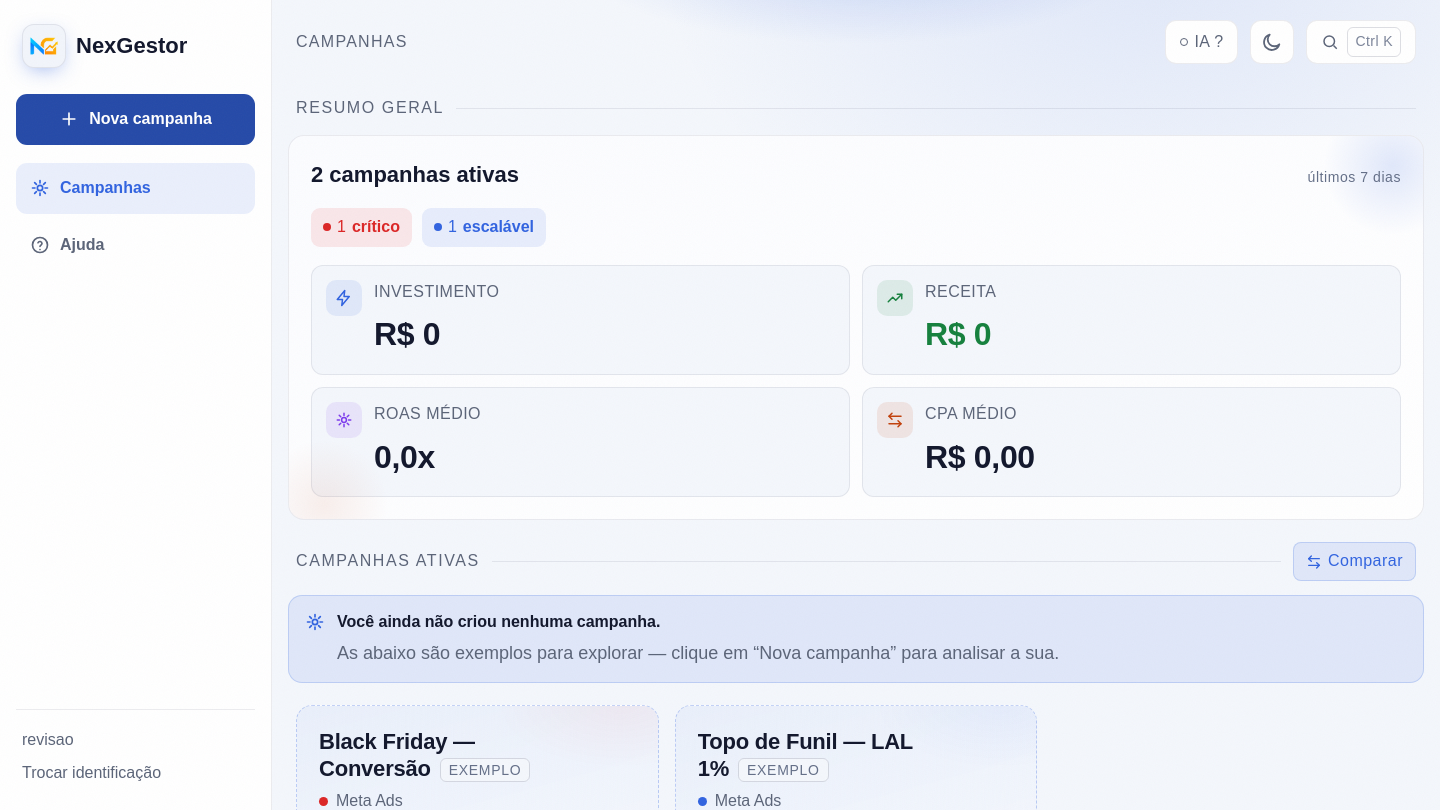
Test: HTTP real — corpo malformado do benchmark nunca derruba a análise › item null → análise preservada, sem referência exibida
The width and height of the screenshot is (1440, 810).
Step 1. Click the button "Nova campanha" → (136, 119), box [16, 94, 255, 145]
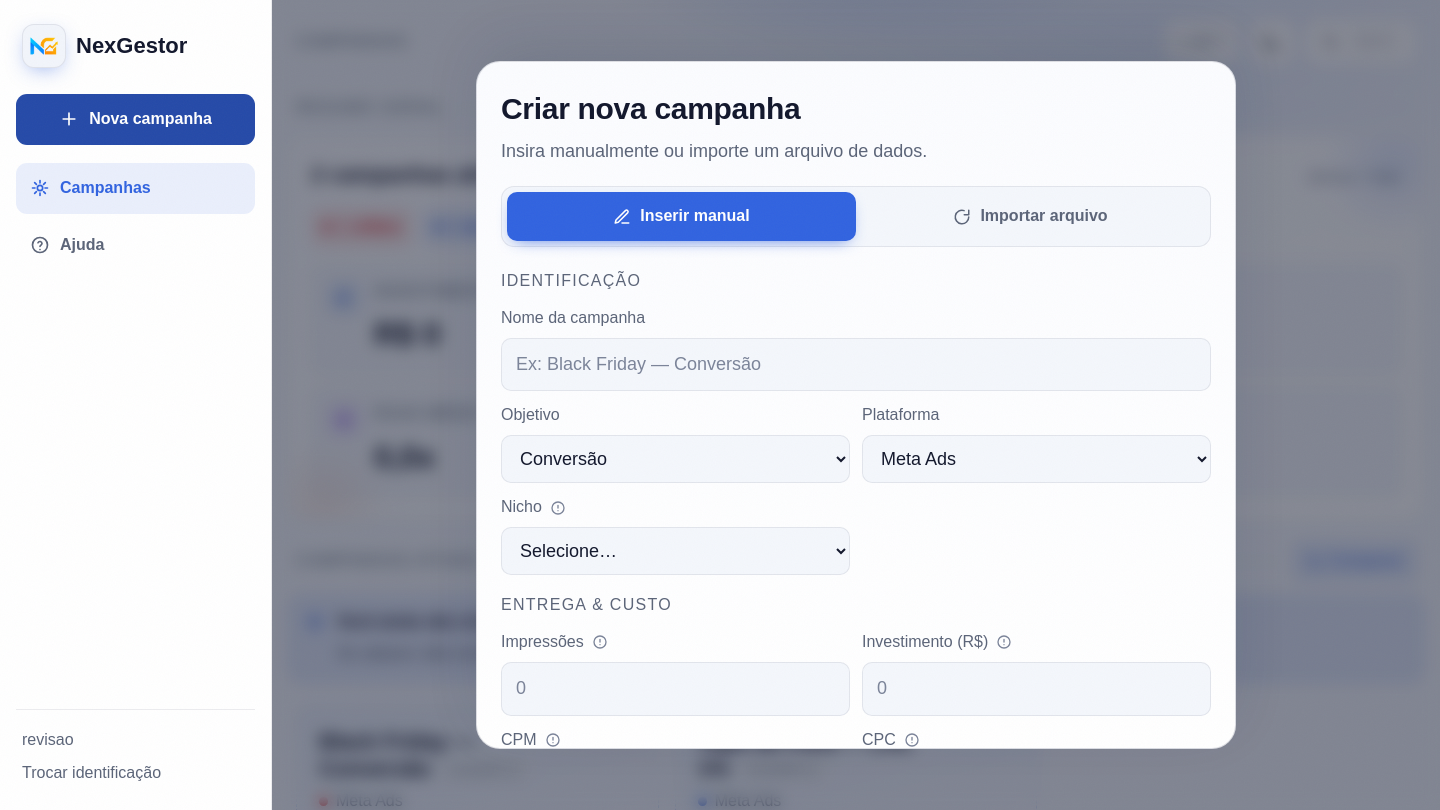
Step 2. Type "Campanha X" into the field with placeholder "Ex: Black Friday — Conversão" → (856, 364), box [501, 338, 1211, 391]
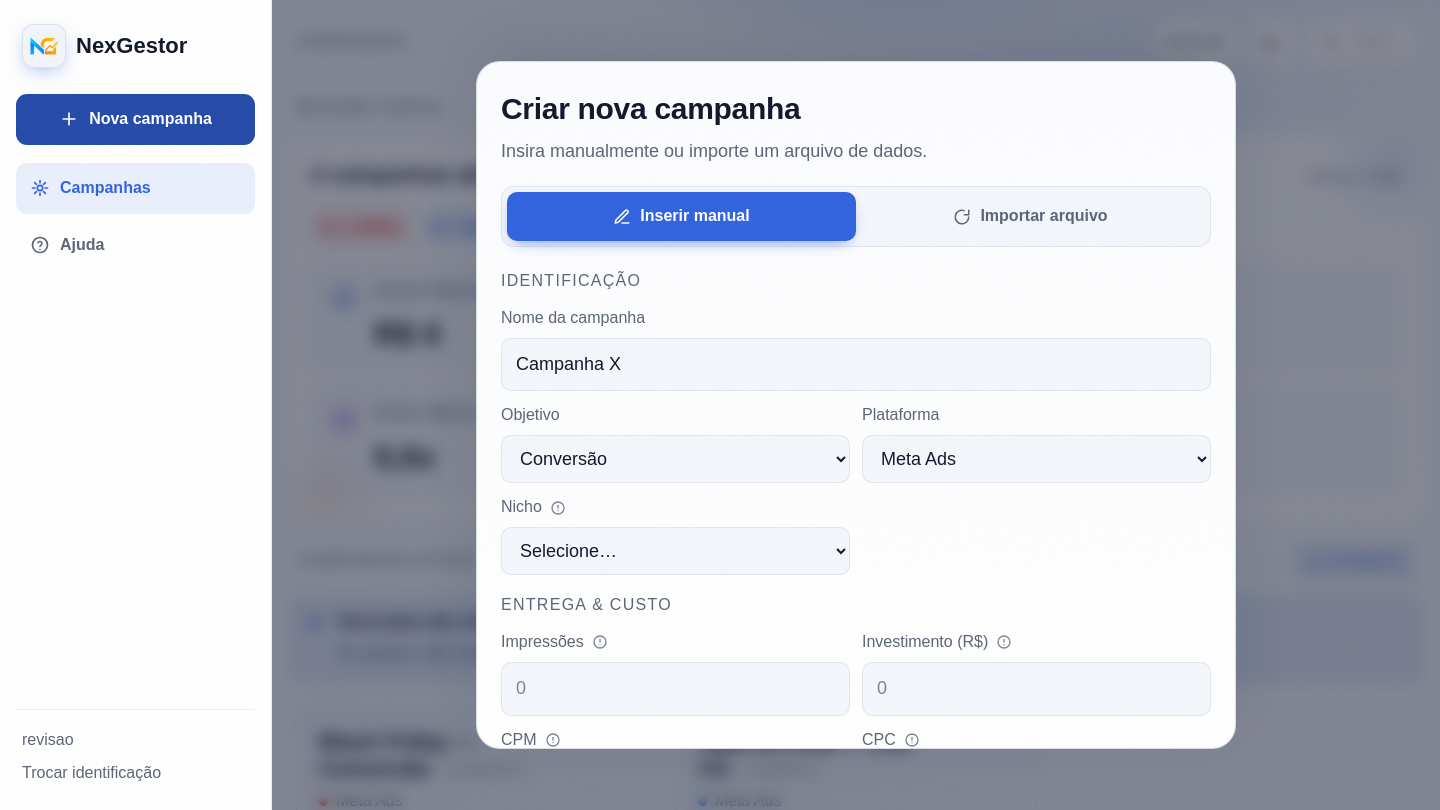
Step 3. Select "Pet" in the dropdown below "Nicho" → (676, 551), box [501, 527, 850, 575]
(page scrolled)
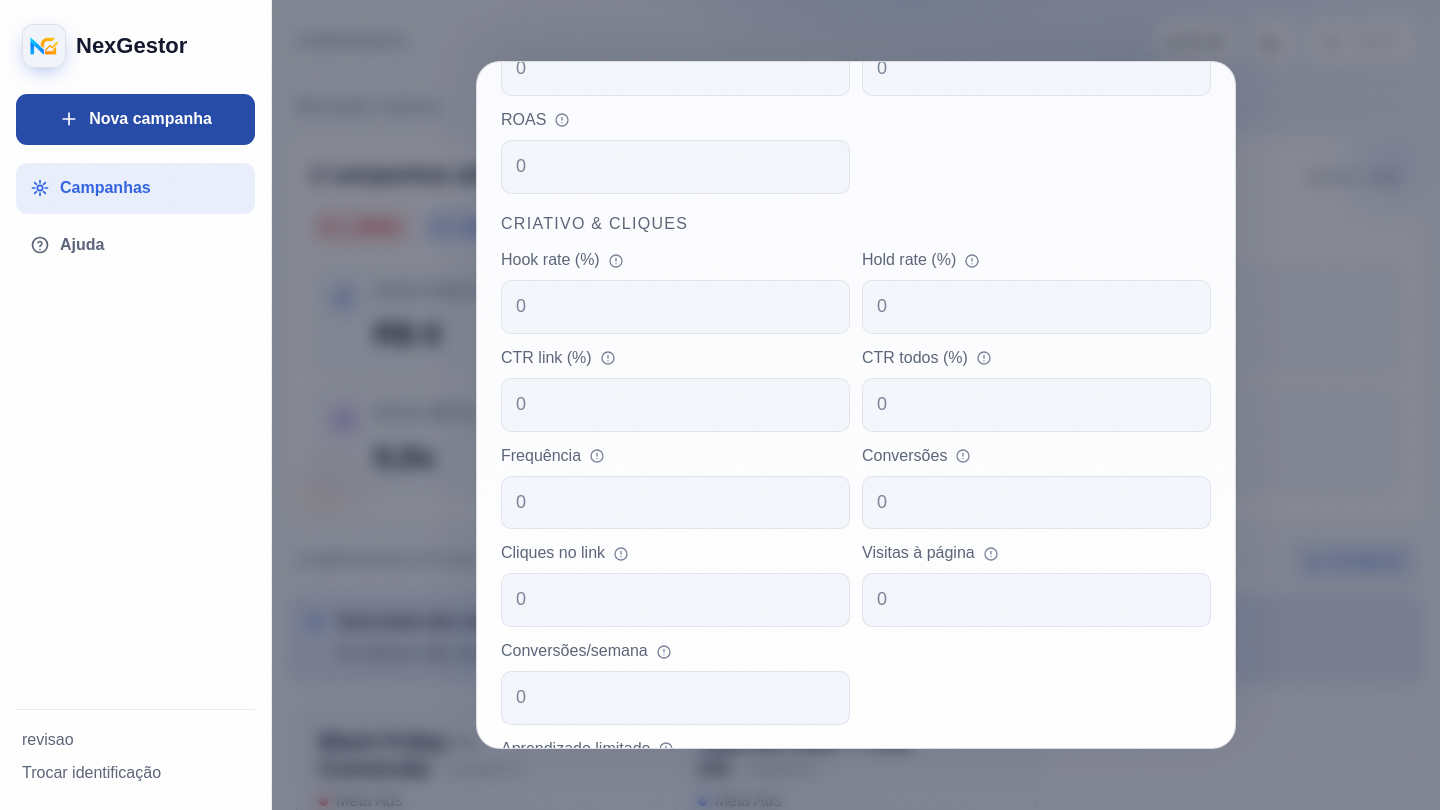
Step 4. Type "1,2" into the field with placeholder "0" below "CTR link (%)" → (676, 405), box [501, 378, 850, 432]
(page scrolled)
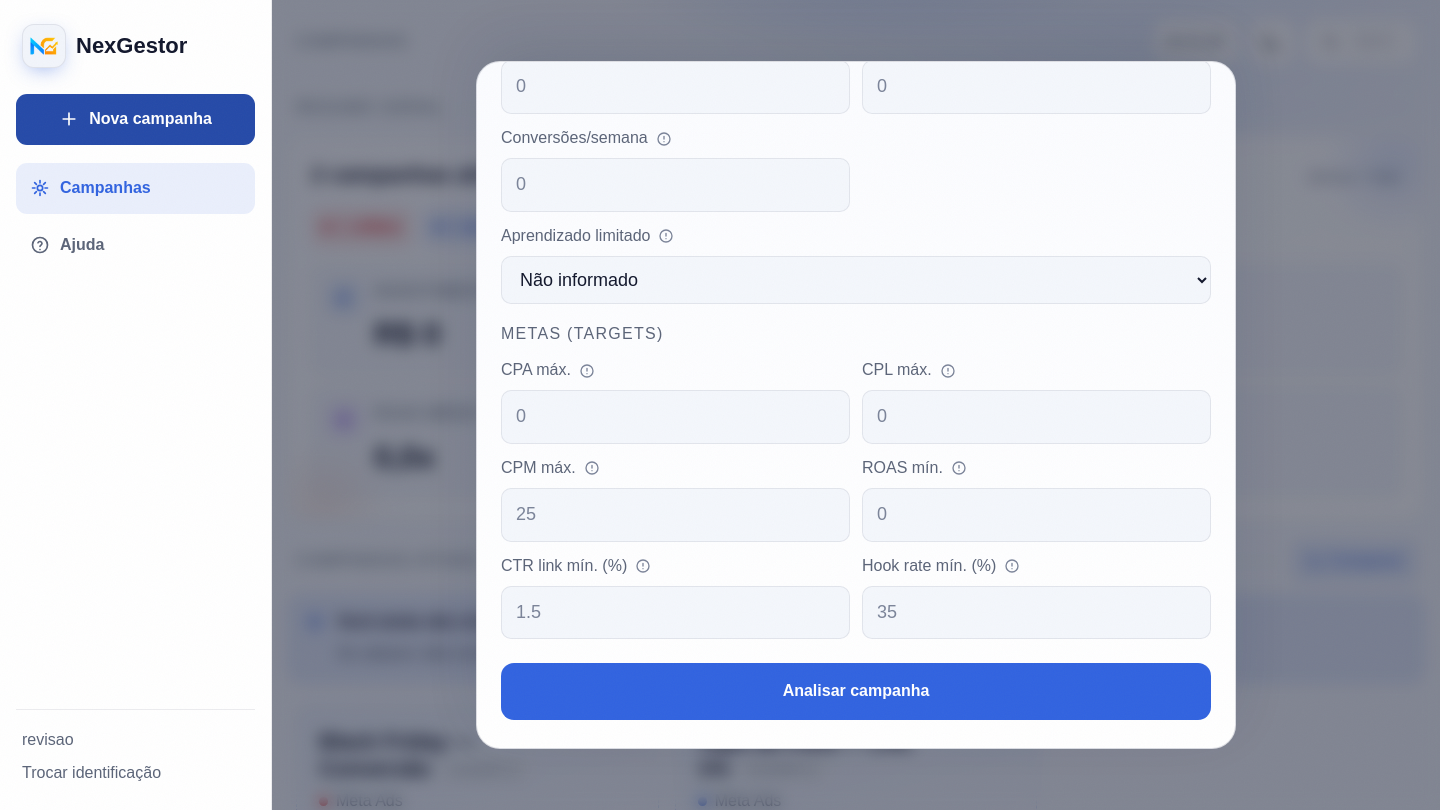
Step 5. Click the button "Analisar campanha" → (856, 692), box [501, 664, 1211, 720]
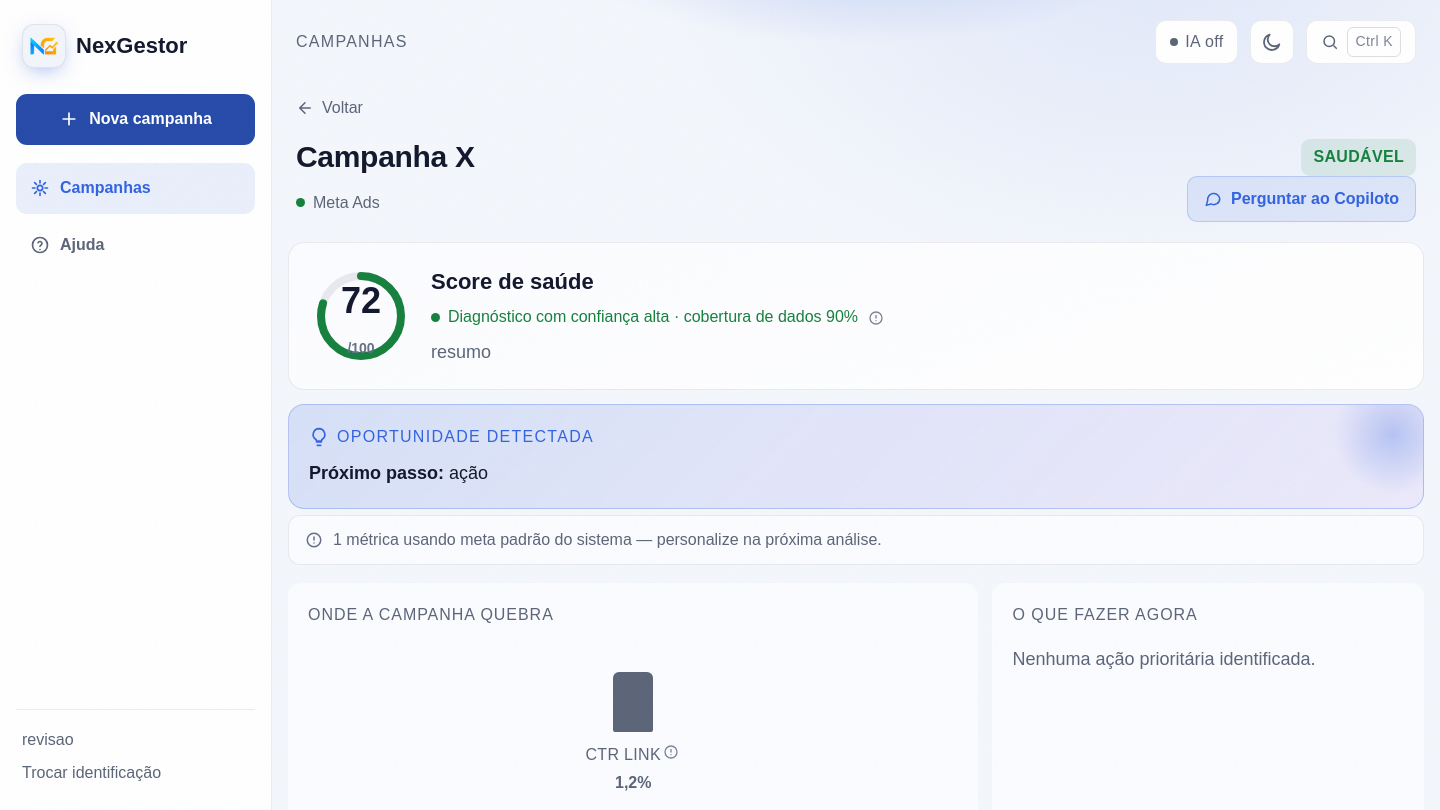
Check: the heading "Campanha X" is shown, box [296, 140, 475, 173]
